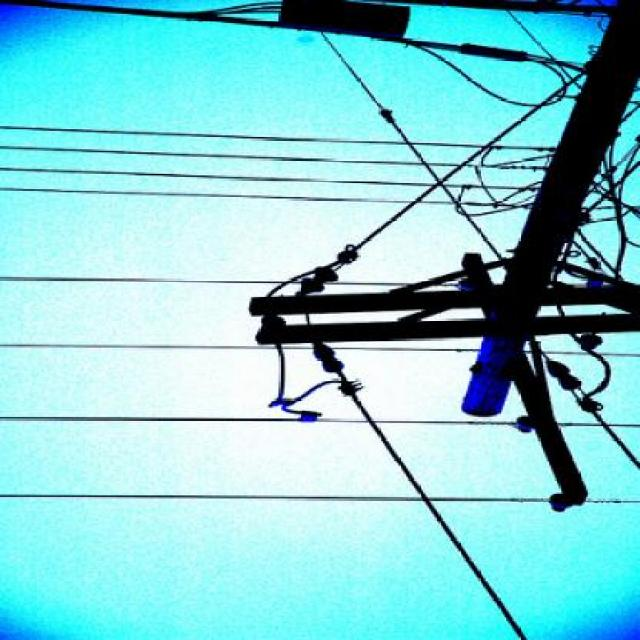pole: (266, 0, 640, 488)
